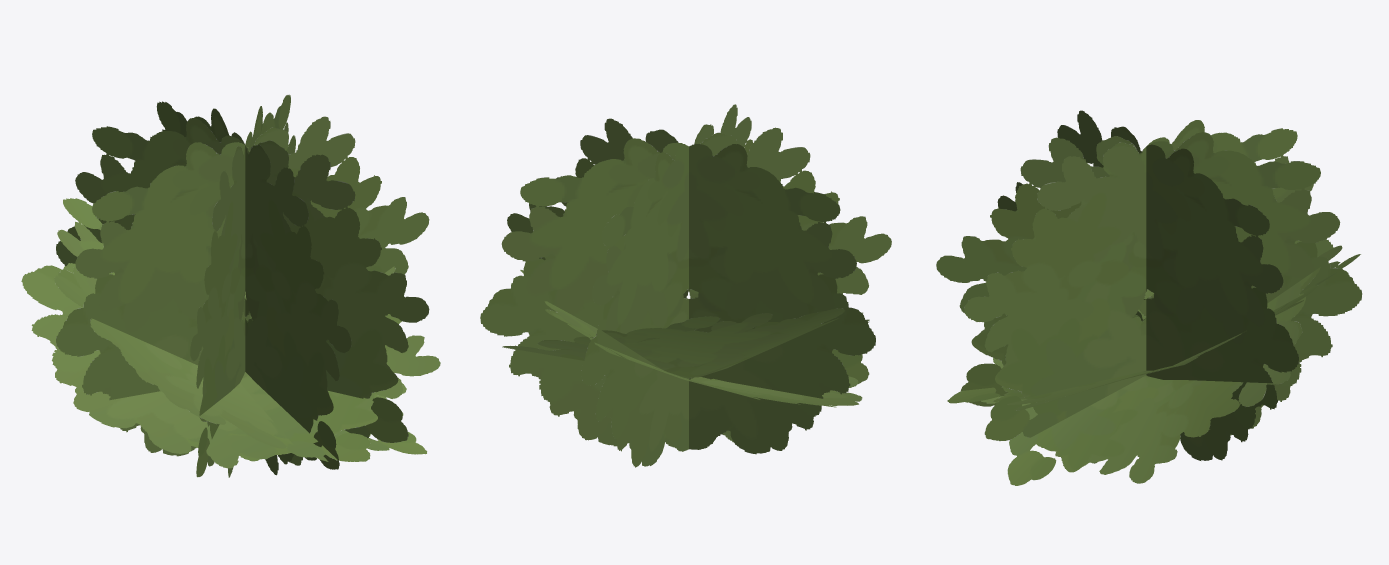
Rendered from greenBush_1.fbx.
The picture shows the model from 3 angles, left to right: view 1: azimuth 30°, elevation 25°; view 2: azimuth 150°, elevation 25°; view 3: azimuth 270°, elevation 25°; orthographic projection.
Parts seen in each view (by area): view 1: greenBush_1; view 2: greenBush_1; view 3: greenBush_1.
Boxes of the visible parts, x1,y1,x2,y2 form: greenBush_1: (21, 94, 440, 477); greenBush_1: (480, 104, 891, 467); greenBush_1: (936, 110, 1362, 485).
Size of the model in its own units: 2.31 by 2.06 by 2.36.
